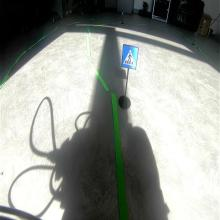crosswalk: (122, 44, 139, 70)
